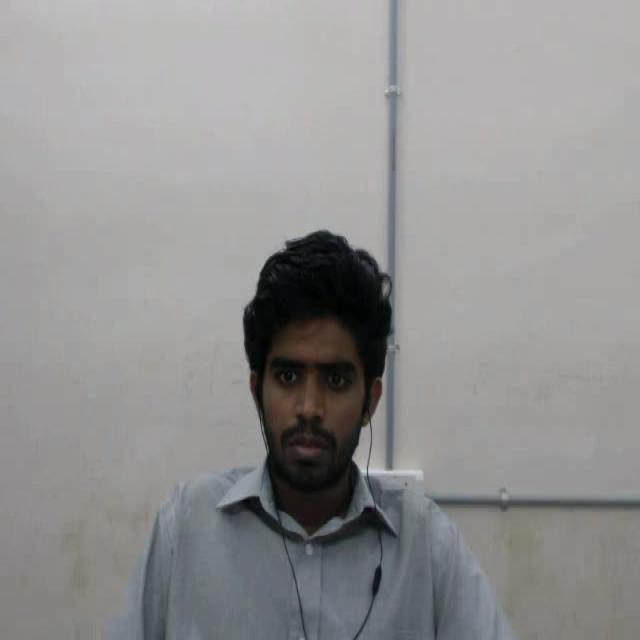Engaged: (231, 219, 425, 524)
